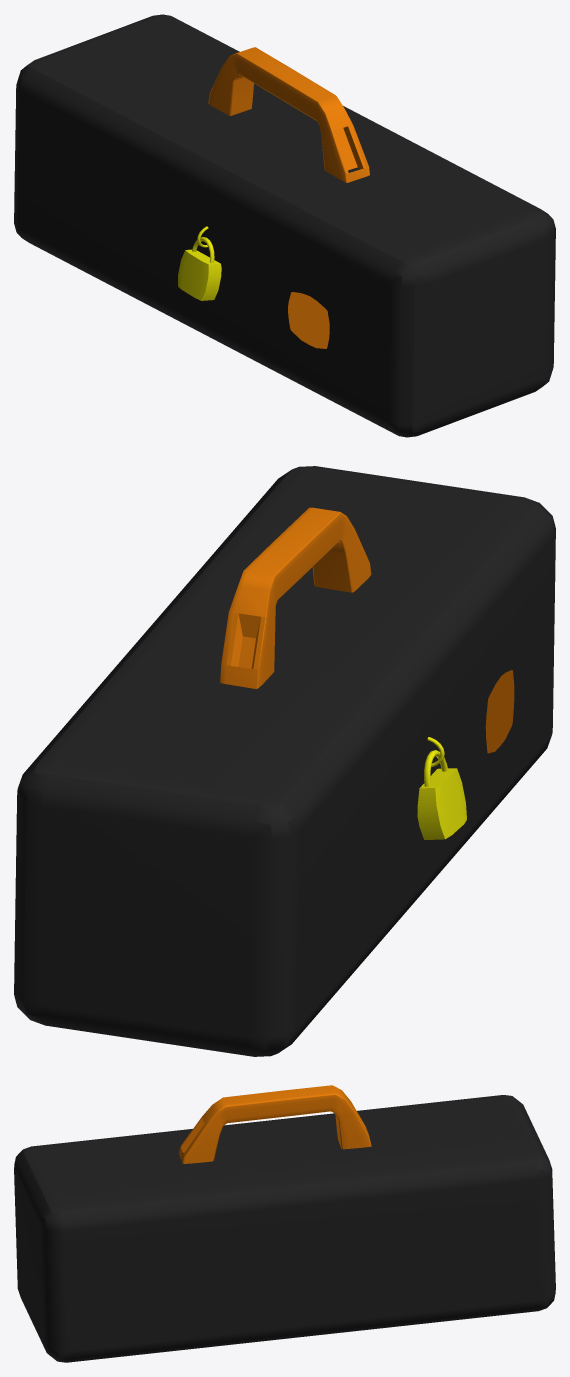
The model's file is caixaferramenta.gltf.
3 views of the same model, one above another, from view 1: azimuth 30°, elevation 25°; view 2: azimuth 150°, elevation 25°; view 3: azimuth 270°, elevation 25° (orthographic). The views are drawn at different scales.
Visible parts, largest first — view 1: 5060e.107; view 2: 5060e.107; view 3: 5060e.107.
Boxes of the visible parts, x1,y1,x2,y2 form: 5060e.107: [14, 14, 555, 437]; 5060e.107: [14, 466, 555, 1056]; 5060e.107: [14, 1085, 555, 1362].
Bounding box in the file's own units: 27.06 × 24.17 × 54.
